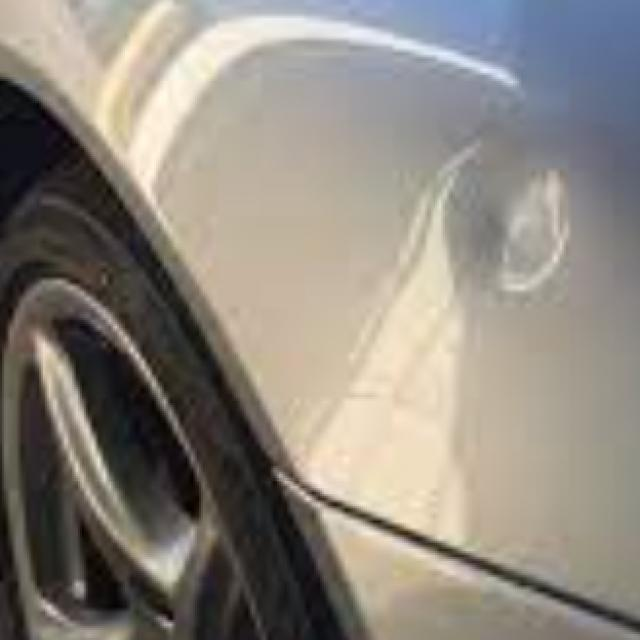dents: (412, 111, 602, 323)
